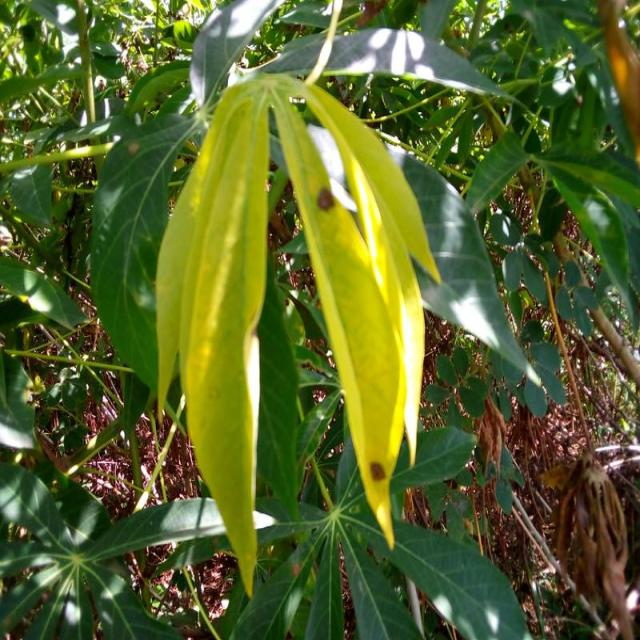cassava leaf: (154, 69, 443, 596), (154, 75, 272, 596)
